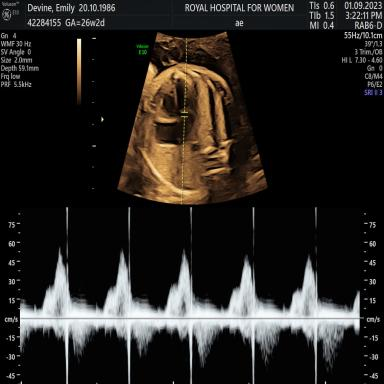Ultrasound-Waves: (22, 208, 360, 380)
